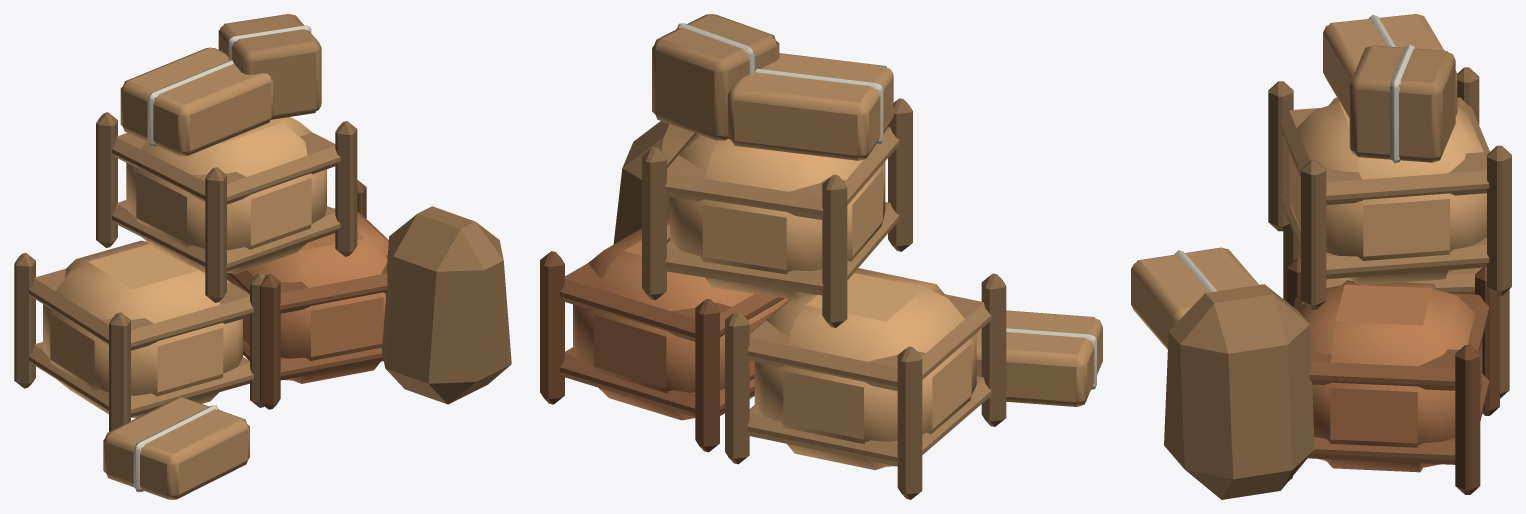
Rendered from crates.glb.
The picture shows the model from 3 angles, left to right: view 1: azimuth 30°, elevation 25°; view 2: azimuth 150°, elevation 25°; view 3: azimuth 270°, elevation 25°; orthographic projection. The views are drawn at different scales.
Visible parts, largest first — view 1: body; view 2: body; view 3: body.
Part boxes in pixels (bbox=[...]): body: bbox=[14, 14, 511, 499]; body: bbox=[540, 14, 1102, 499]; body: bbox=[1131, 14, 1511, 499].
Size of the model in its own units: 1.66 by 1.3 by 1.21.
